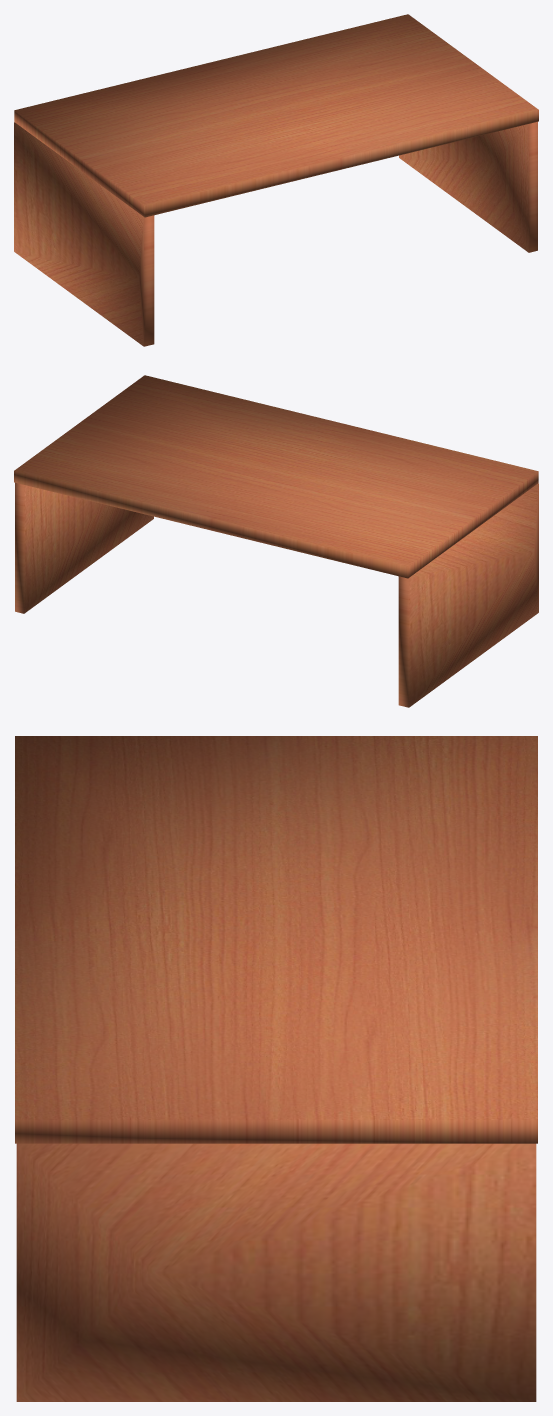
Rendered from Table.obj.
3 views of the same model, one above another, from view 1: azimuth 30°, elevation 25°; view 2: azimuth 150°, elevation 25°; view 3: azimuth 270°, elevation 25° (orthographic). The views are drawn at different scales.
Visible parts, largest first — view 1: Top, Cube_2_1, Cube_2; view 2: Top, Cube_2_1, Cube_2; view 3: Top, Cube_2.
Boxes of the visible parts, left/top/right/bottom form: Top: left=14, top=14, right=538, bottom=217; Cube_2_1: left=14, top=122, right=154, bottom=346; Cube_2: left=399, top=121, right=537, bottom=252; Top: left=14, top=375, right=538, bottom=578; Cube_2_1: left=398, top=483, right=538, bottom=707; Cube_2: left=15, top=482, right=153, bottom=613; Top: left=15, top=736, right=537, bottom=1143; Cube_2: left=16, top=1143, right=536, bottom=1401.
Size of the model in its own units: 75.81 by 25.88 by 43.5.
1 material, 1 textured.
